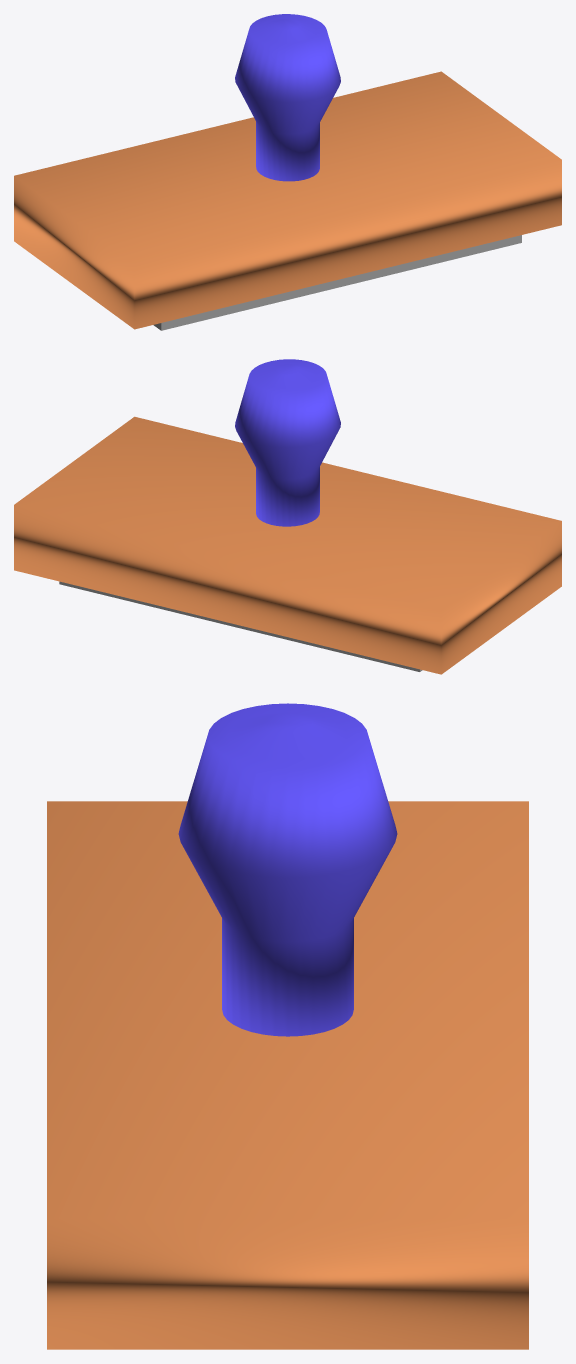
Rendered from Stamp.fbx.
3 renders of one model, top to bottom at view 1: azimuth 30°, elevation 25°; view 2: azimuth 150°, elevation 25°; view 3: azimuth 270°, elevation 25°, orthographic. The views are drawn at different scales.
Parts seen in each view (by area): view 1: Cube.001; view 2: Cube.001; view 3: Cube.001.
Part boxes in pixels (x1,y1,x2,y2): Cube.001: [14, 14, 561, 330]; Cube.001: [14, 359, 561, 674]; Cube.001: [47, 703, 528, 1349].
Bounding box in the file's own units: 328 × 163 × 160.
